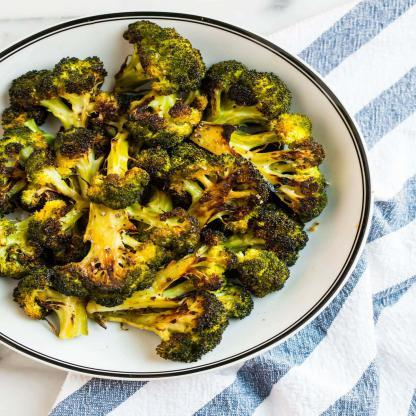broccoli: (0, 20, 333, 367)
